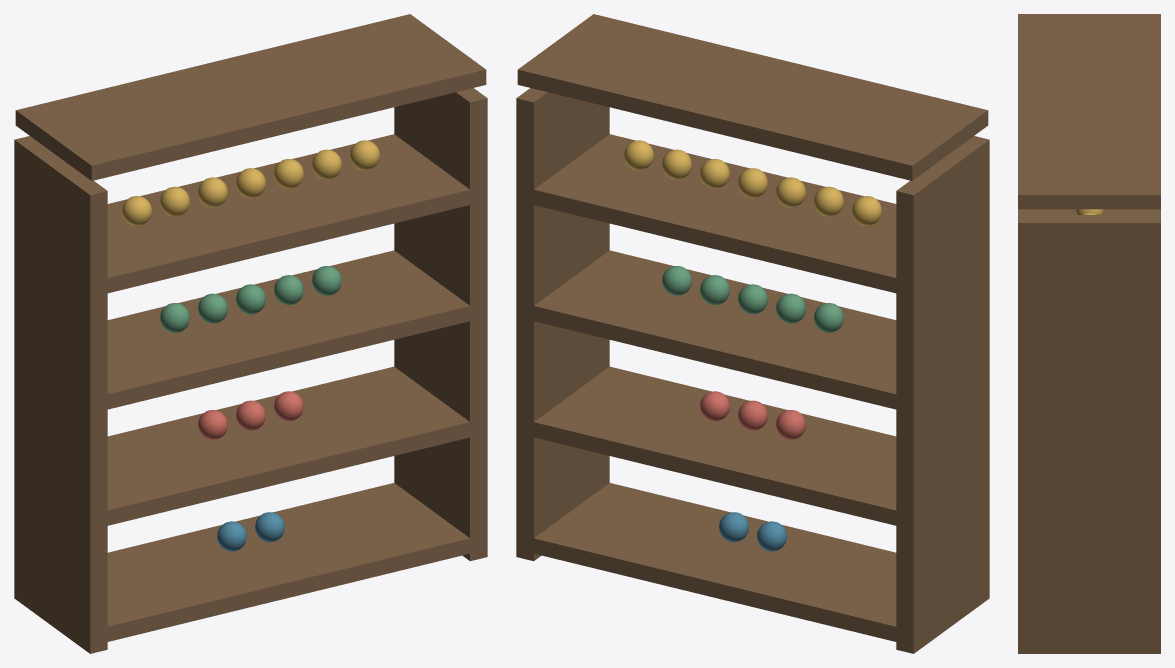
The picture shows the model from 3 angles, left to right: view 1: azimuth 30°, elevation 25°; view 2: azimuth 150°, elevation 25°; view 3: azimuth 270°, elevation 25°; orthographic projection. The views are drawn at different scales.
Size of the model in its own units: 1.36 by 1.59 by 0.45.
